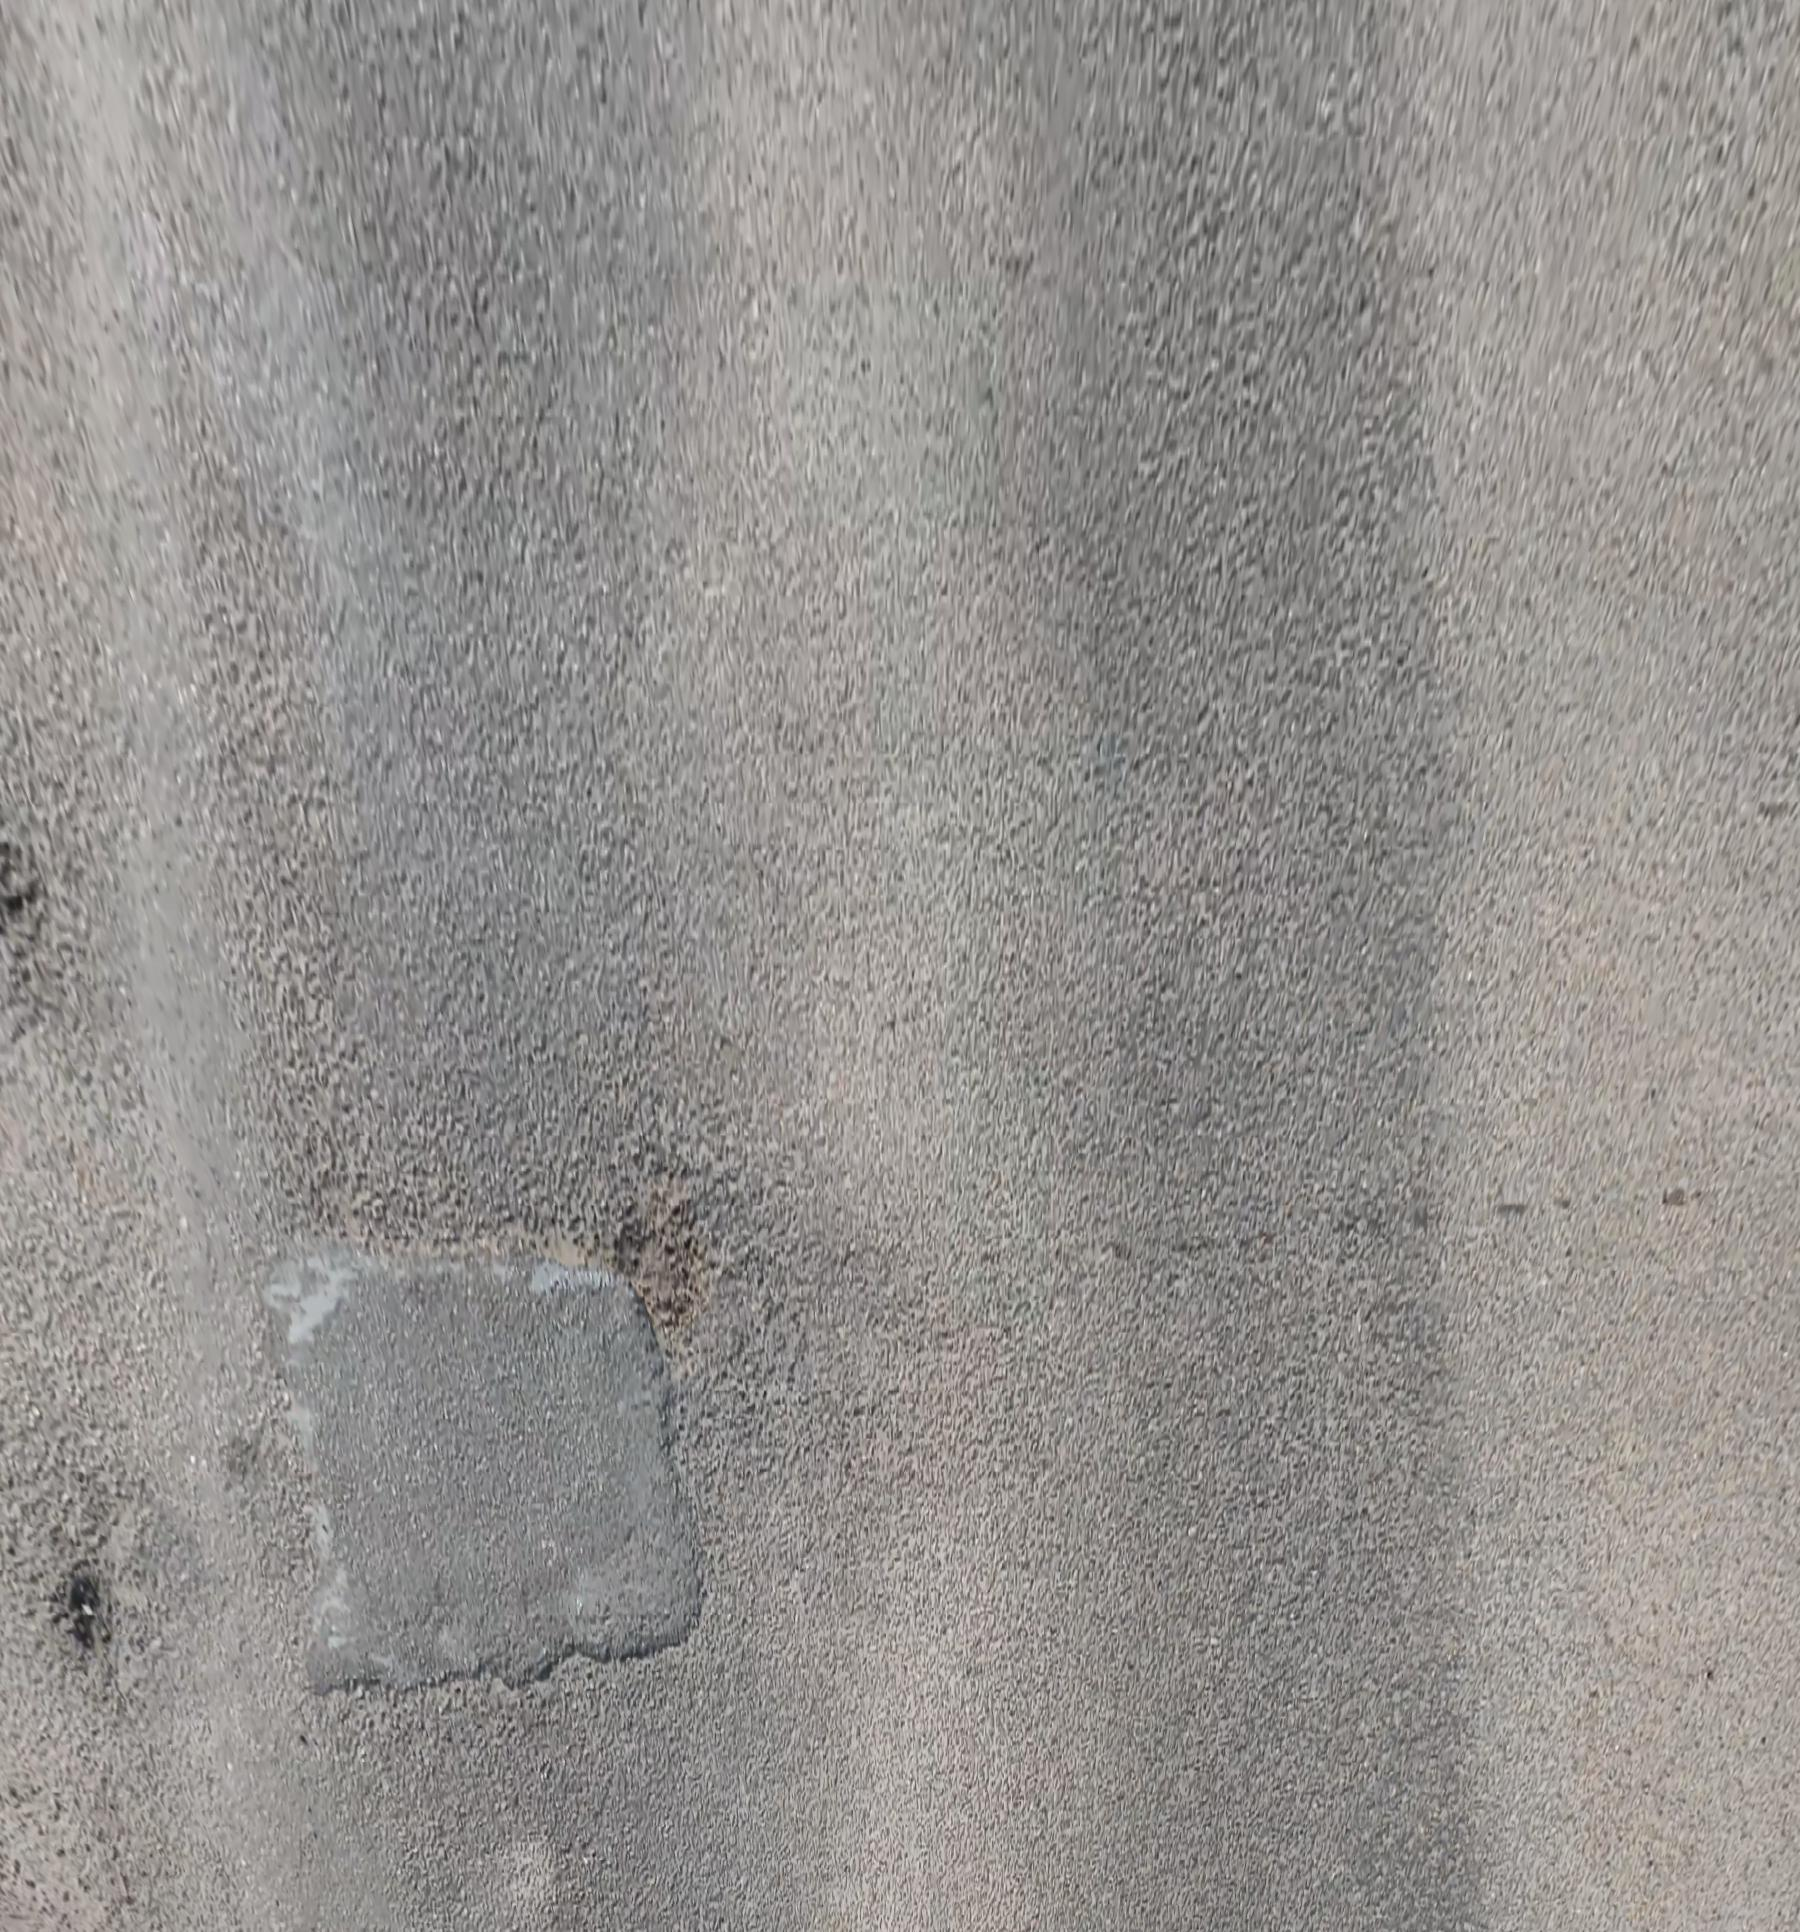pothole: (526, 1186, 726, 1370), (44, 1560, 110, 1656)
pothole_patch_good: (266, 1255, 699, 1692)
